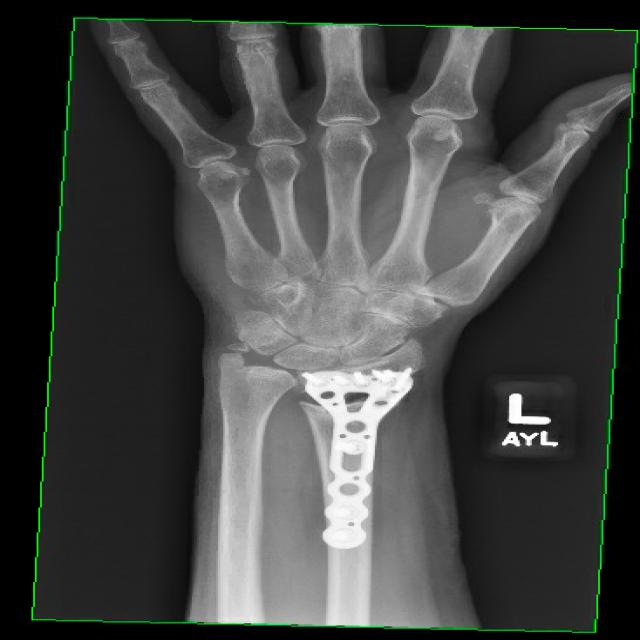x-ray: (294, 356, 426, 558)
